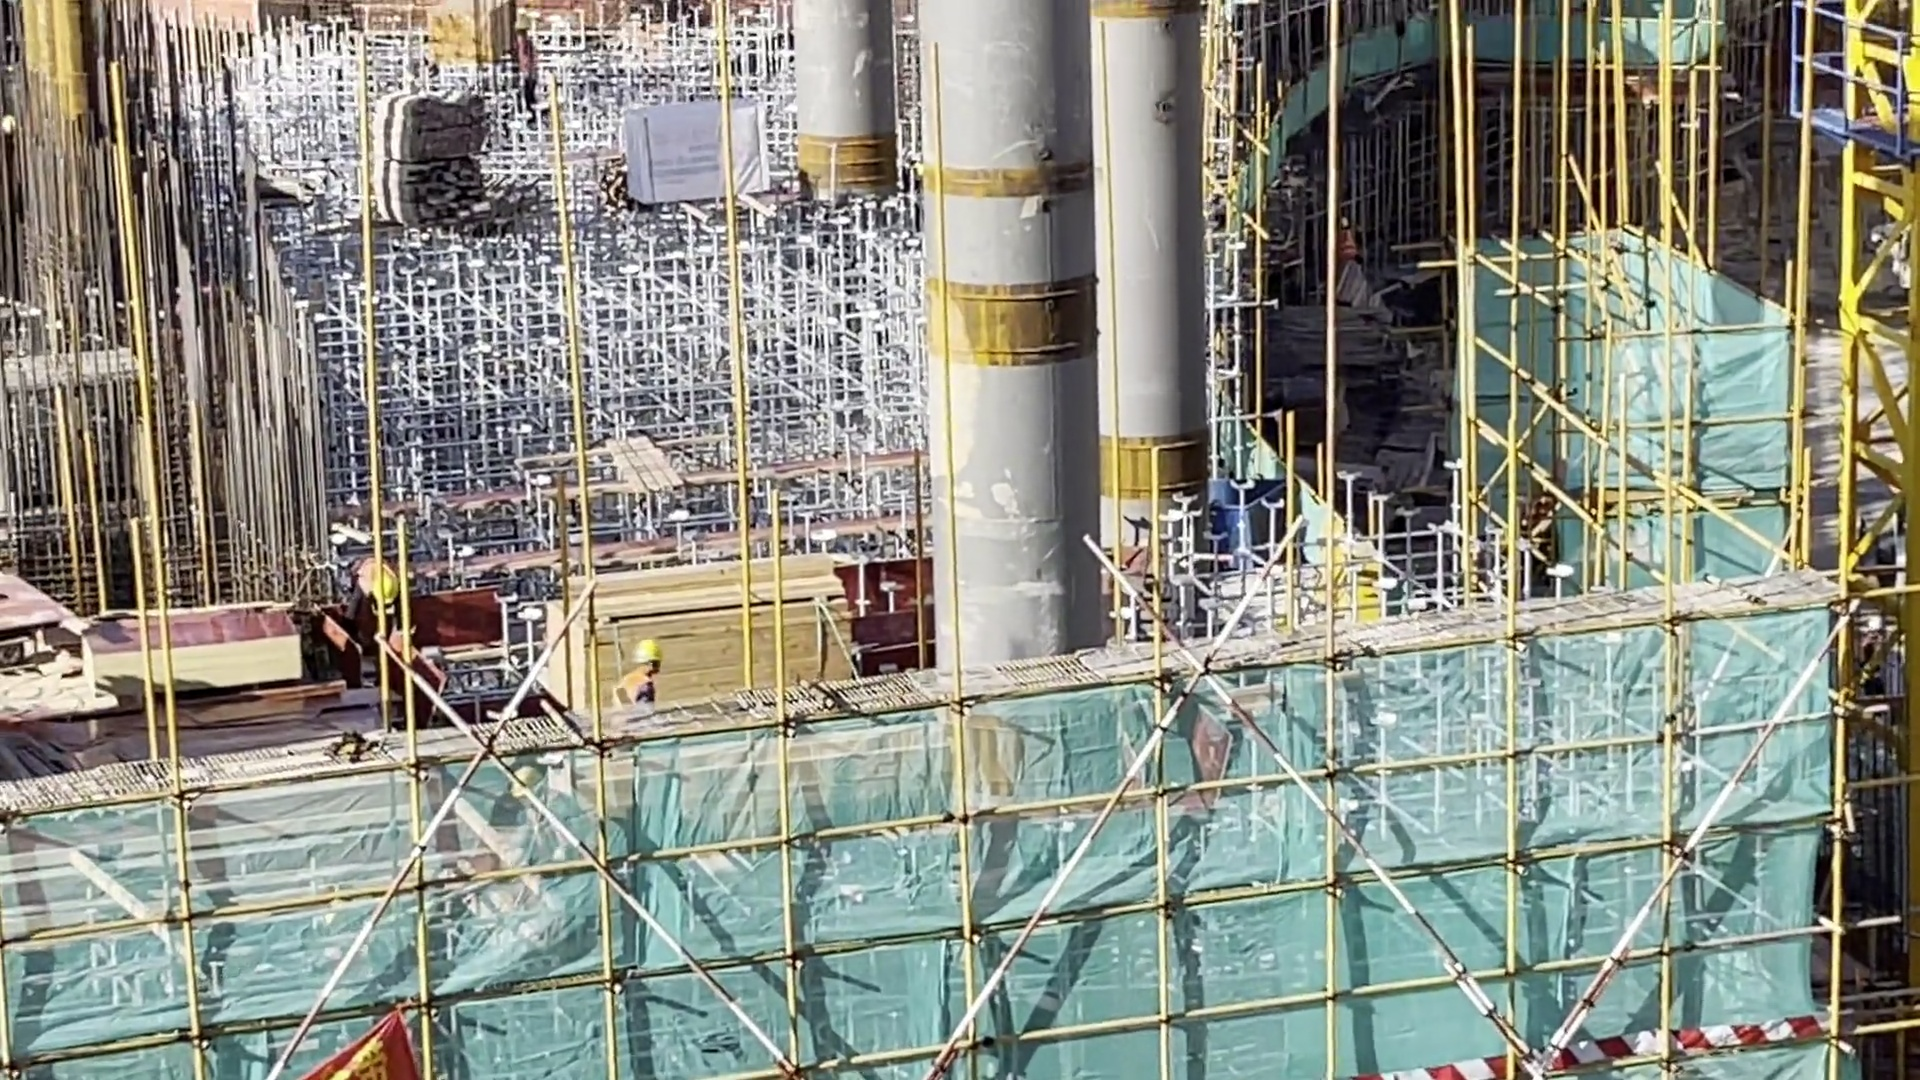helmet: (632, 635, 664, 676)
person: (601, 631, 673, 709)
vest: (608, 664, 655, 706)
wood: (537, 542, 864, 717)
